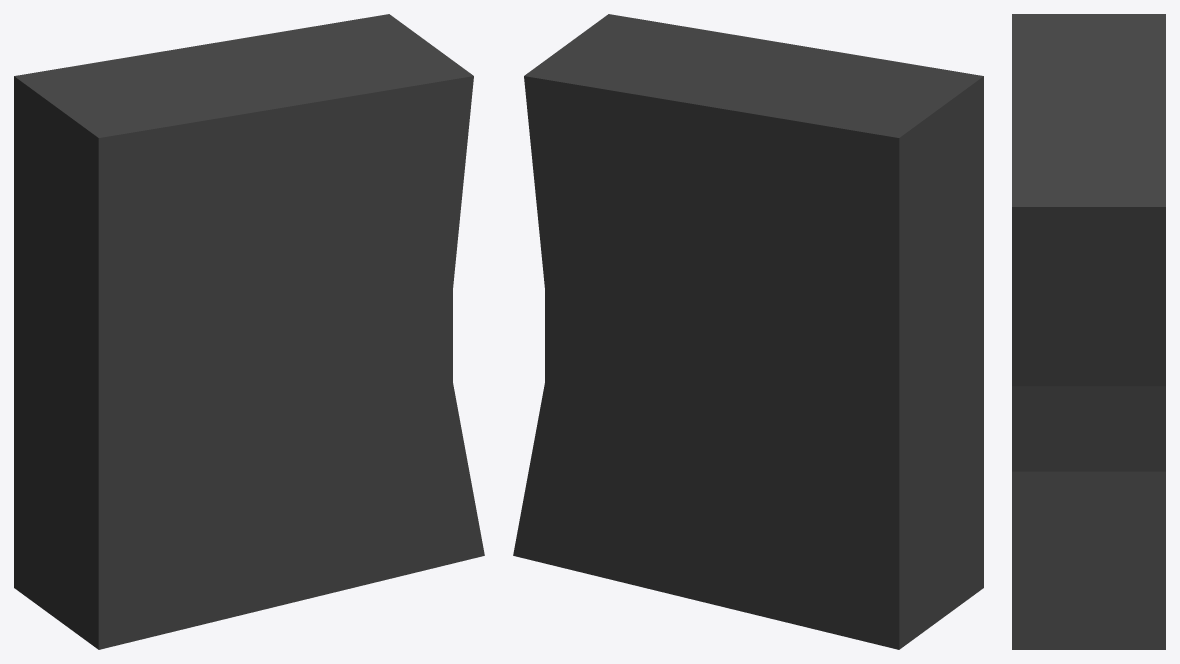
File: LMG1_01_3.fbx
The picture shows the model from 3 angles, left to right: view 1: azimuth 30°, elevation 25°; view 2: azimuth 150°, elevation 25°; view 3: azimuth 270°, elevation 25°; orthographic projection. The views are drawn at different scales.
Parts seen in each view (by area): view 1: LMG1_01_3; view 2: LMG1_01_3; view 3: LMG1_01_3.
Boxes of the visible parts, x1,y1,x2,y2 form: LMG1_01_3: (14,14,484,649); LMG1_01_3: (513,14,983,649); LMG1_01_3: (1012,14,1165,649).
Size of the model in its own units: 0.0365 by 0.0463 by 0.0139.
